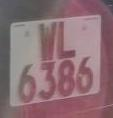3: (37, 58, 60, 105)
6: (16, 59, 41, 107), (75, 51, 97, 97)
8: (56, 57, 78, 102)
L: (57, 19, 79, 63)
W: (37, 19, 59, 62)
